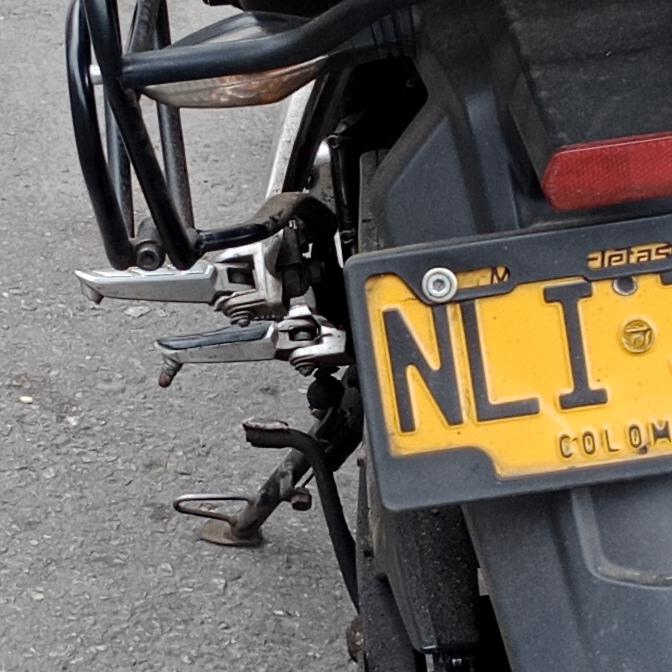plates: (346, 199, 672, 514)
